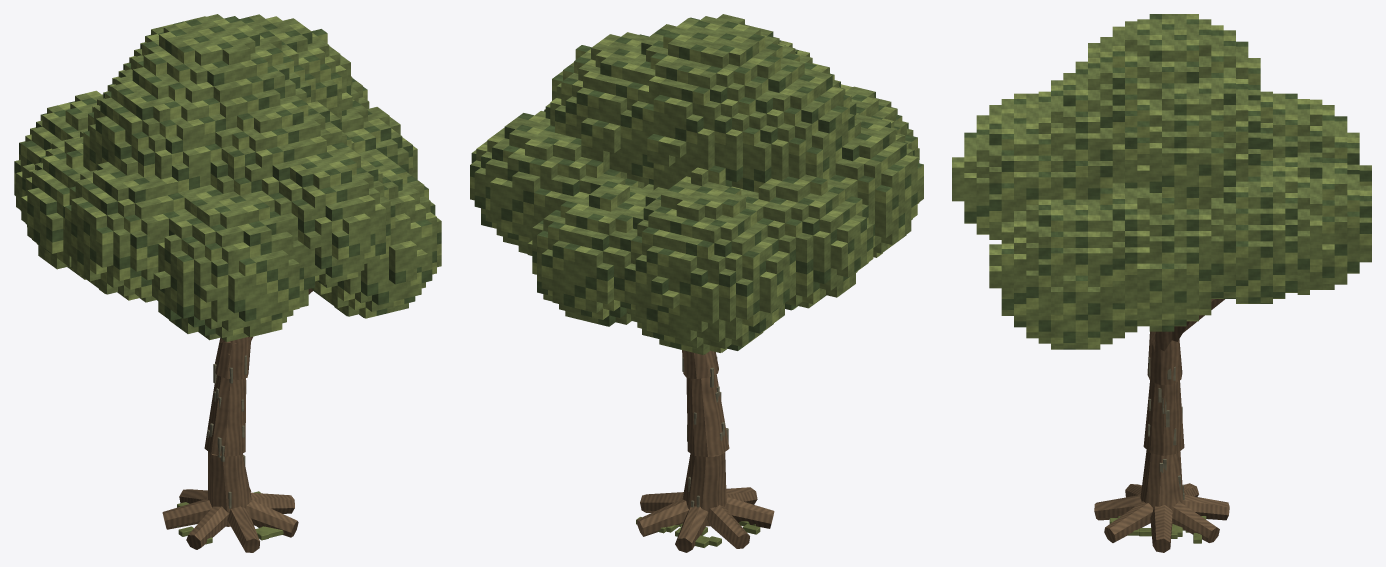
Rendered from SM_Pilot_BroadTree5mV2.fbx.
The picture shows the model from 3 angles, left to right: view 1: azimuth 30°, elevation 25°; view 2: azimuth 150°, elevation 25°; view 3: azimuth 270°, elevation 25°; orthographic projection. The views are drawn at different scales.
Parts seen in each view (by area): view 1: SM_Pilot_BroadTree5mV2; view 2: SM_Pilot_BroadTree5mV2; view 3: SM_Pilot_BroadTree5mV2.
Boxes of the visible parts, x1,y1,x2,y2 form: SM_Pilot_BroadTree5mV2: (14, 14, 441, 552); SM_Pilot_BroadTree5mV2: (470, 14, 923, 552); SM_Pilot_BroadTree5mV2: (952, 14, 1371, 552).
Size of the model in its own units: 368 by 391 by 499.
Materials: 6 (6 with a texture image).
